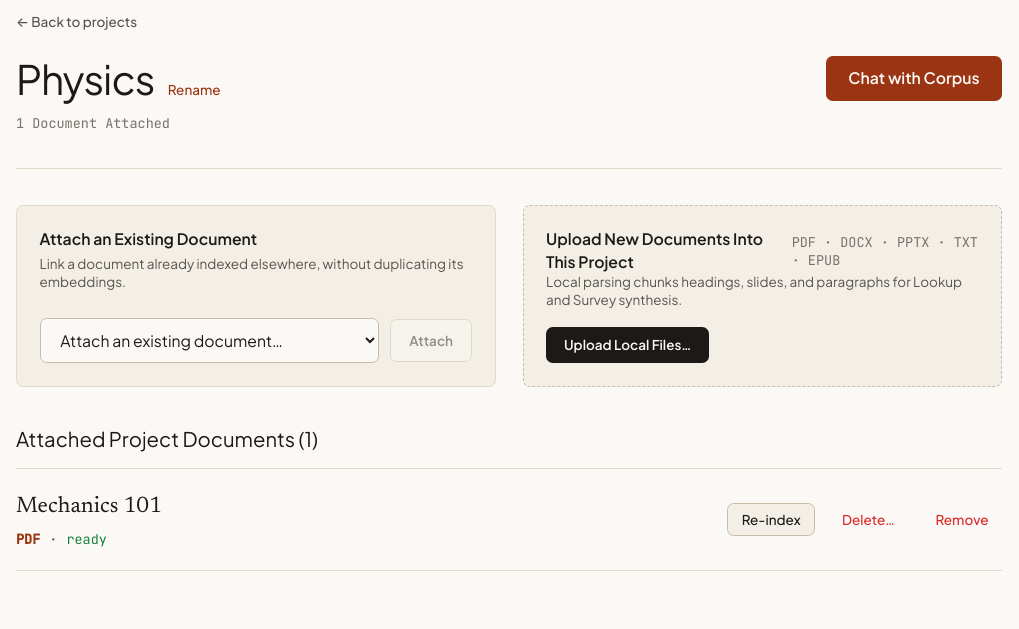
Test case: ProjectDetailScreen › shows an error if removing a document fails
Click the button "Remove".
click(962, 520)  # box [922,504,1002,535]
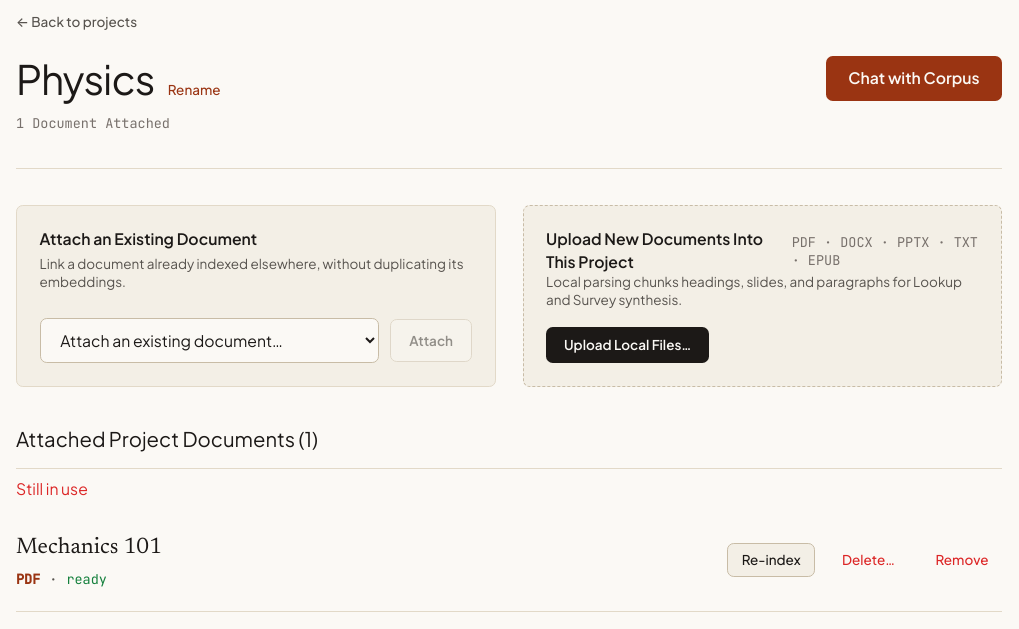
Check: the text "Still in use" is shown, box [16,479,88,498]
